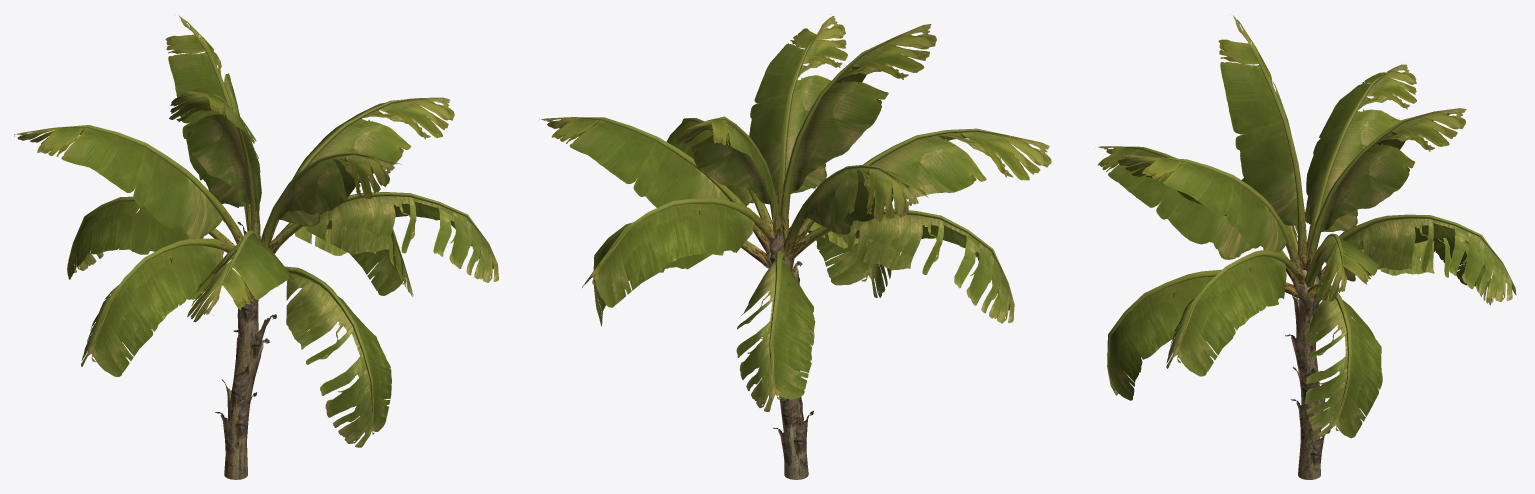
The model's file is chuoi-2.glb.
3 renders of one model, left to right at view 1: azimuth 30°, elevation 25°; view 2: azimuth 150°, elevation 25°; view 3: azimuth 270°, elevation 25°, orthographic. The views are drawn at different scales.
Parts seen in each view (by area): view 1: Tree_1, Tree_2, Tree_4, Tree_3, Tree_0; view 2: Tree_1, Tree_2, Tree_4, Tree_3, Tree_0; view 3: Tree_1, Tree_2, Tree_4, Tree_3, Tree_0.
Part boxes in pixels (x1,y1,x2,y2): Tree_1: [14, 15, 454, 322]; Tree_2: [67, 117, 498, 447]; Tree_4: [54, 33, 488, 414]; Tree_3: [215, 222, 276, 460]; Tree_0: [224, 282, 258, 479]; Tree_1: [541, 14, 1051, 234]; Tree_2: [582, 121, 1014, 411]; Tree_4: [573, 33, 1011, 376]; Tree_3: [755, 228, 813, 468]; Tree_0: [767, 252, 808, 479]; Tree_1: [1097, 15, 1466, 301]; Tree_2: [1107, 178, 1516, 438]; Tree_4: [1107, 42, 1501, 407]; Tree_3: [1285, 247, 1330, 470]; Tree_0: [1293, 270, 1320, 479].
Bounding box in the file's own units: 1 × 0.998 × 0.9463.
5 materials, 5 textured.
